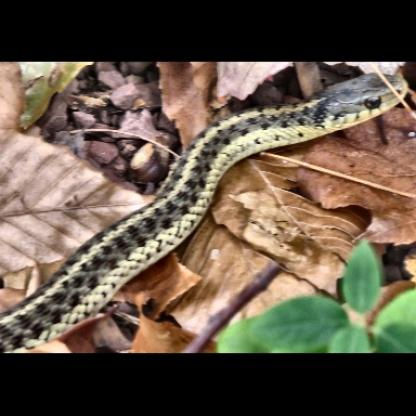Snake: (151, 69, 405, 210)
